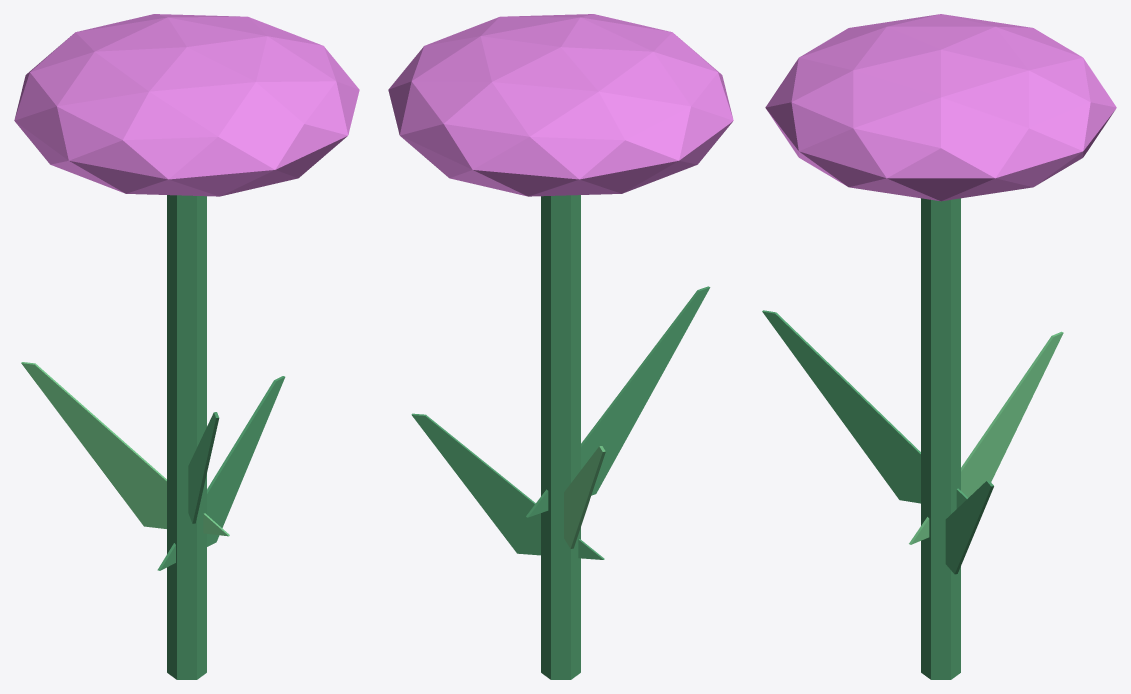
The model's file is Wildflower_Coneflower.glb.
3 renders of one model, left to right at view 1: azimuth 30°, elevation 25°; view 2: azimuth 150°, elevation 25°; view 3: azimuth 270°, elevation 25°, orthographic.
Visible parts, largest first — view 1: FTF_Nature_Wildflower_Coneflower_StaticMesh; view 2: FTF_Nature_Wildflower_Coneflower_StaticMesh; view 3: FTF_Nature_Wildflower_Coneflower_StaticMesh.
Part boxes in pixels (bbox=[...]): FTF_Nature_Wildflower_Coneflower_StaticMesh: bbox=[14, 14, 359, 679]; FTF_Nature_Wildflower_Coneflower_StaticMesh: bbox=[388, 14, 733, 679]; FTF_Nature_Wildflower_Coneflower_StaticMesh: bbox=[762, 14, 1116, 679].
Bounding box in the file's own units: 0.4185 × 0.86 × 0.444.
